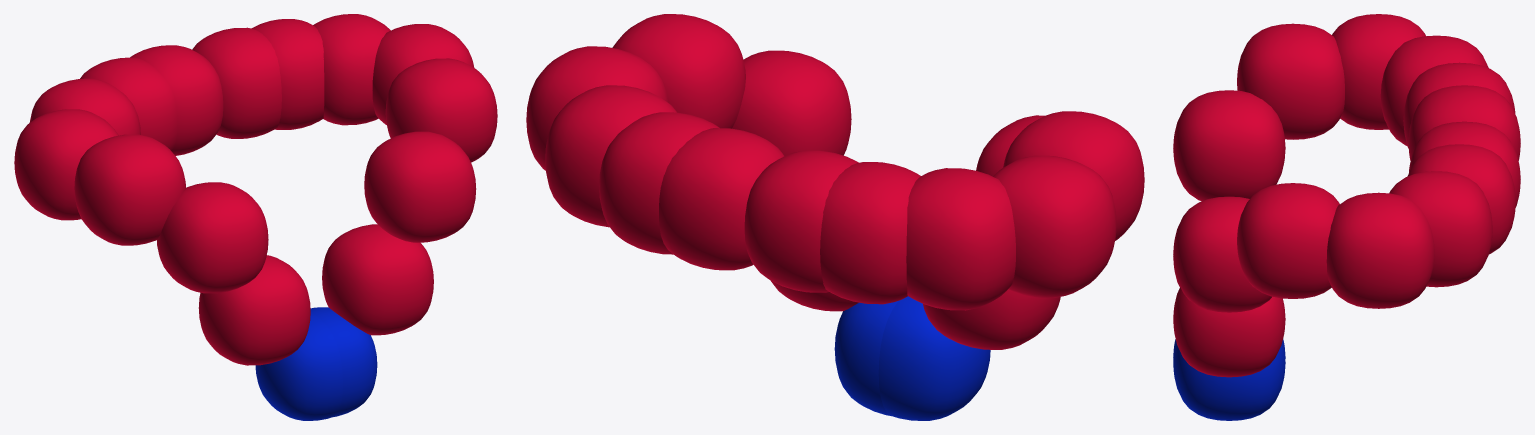
The model's file is Body_Pearls.fbx.
3 renders of one model, left to right at view 1: azimuth 30°, elevation 25°; view 2: azimuth 150°, elevation 25°; view 3: azimuth 270°, elevation 25°, orthographic. The views are drawn at different scales.
Visible parts, largest first — view 1: Pearls; view 2: Pearls; view 3: Pearls.
Boxes of the visible parts, x1,y1,x2,y2 form: Pearls: (14,14,497,420); Pearls: (526,14,1144,420); Pearls: (1173,14,1520,420).
Size of the model in its own units: 171 by 106 by 111.
